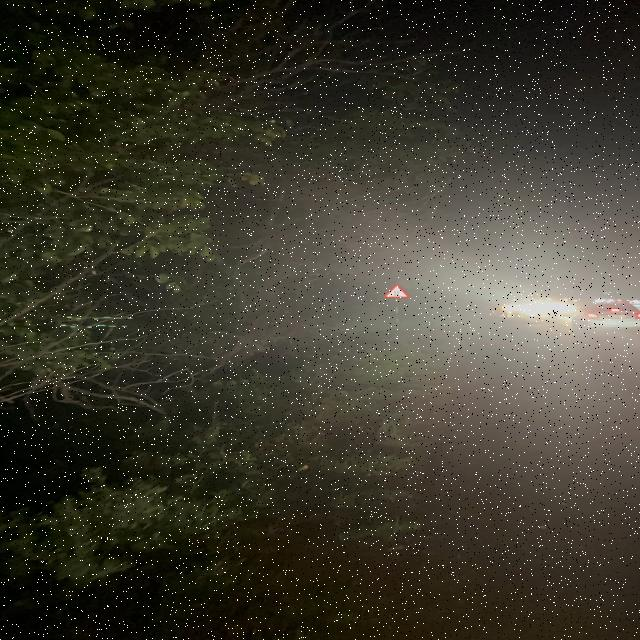Narrow_Bridge: (380, 283, 414, 300)
